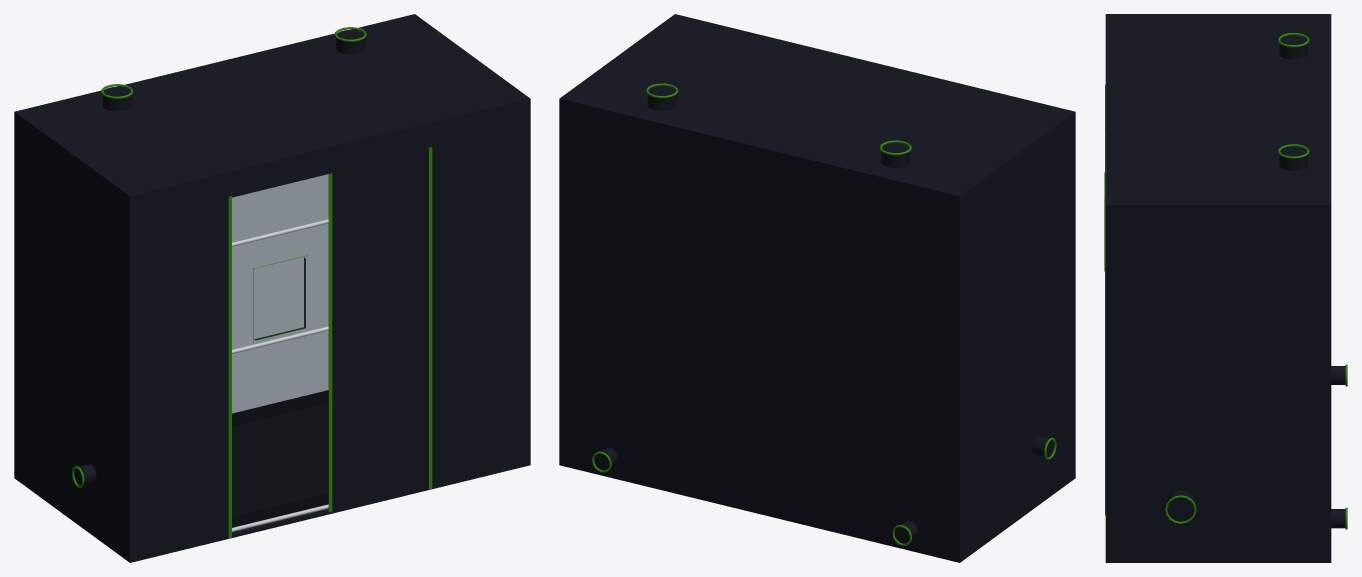
Rendered from grow-tent-240x120x210.glb.
The picture shows the model from 3 angles, left to right: view 1: azimuth 30°, elevation 25°; view 2: azimuth 150°, elevation 25°; view 3: azimuth 270°, elevation 25°; orthographic projection. The views are drawn at different scales.
Visible parts, largest first — view 1: panel_top, panel_side_left, panel_front_left, panel_front_right, door_main_right, lining_back, floor_tray, panel_upper_front, panel_bottom, zip_door_right, zip_door_split, tray_lip_back (+3 smaller); view 2: panel_back, panel_top, panel_side_left, panel_bottom, panel_side_right; view 3: panel_side_right, panel_top, panel_bottom, vent_port_side_right_lower_iris, vent_port_roof_right_sleeve, vent_port_roof_left_sleeve, zip_door_right.
Boxes of the visible parts, <box> form: panel_top: <box>14,14,530,198</box>; panel_side_left: <box>14,114,132,560</box>; panel_front_left: <box>132,174,230,559</box>; panel_front_right: <box>430,101,528,486</box>; door_main_right: <box>332,149,428,510</box>; lining_back: <box>232,174,328,413</box>; floor_tray: <box>232,403,328,516</box>; panel_upper_front: <box>230,125,430,197</box>; panel_bottom: <box>14,463,530,562</box>; zip_door_right: <box>428,147,432,489</box>; zip_door_split: <box>328,173,332,512</box>; tray_lip_back: <box>232,390,328,426</box>; panel_back: <box>561,101,957,559</box>; panel_top: <box>559,14,1075,198</box>; panel_side_left: <box>957,114,1075,560</box>; panel_bottom: <box>559,463,1075,562</box>; panel_side_right: <box>559,101,561,463</box>; panel_side_right: <box>1105,207,1331,560</box>; panel_top: <box>1105,14,1331,207</box>; panel_bottom: <box>1105,560,1331,562</box>; vent_port_side_right_lower_iris: <box>1167,497,1194,521</box>; vent_port_roof_right_sleeve: <box>1279,155,1307,170</box>; vent_port_roof_left_sleeve: <box>1279,43,1307,59</box>; zip_door_right: <box>1105,180,1105,515</box>.
Size of the model in its own units: 2.57 by 2.19 by 1.29.
